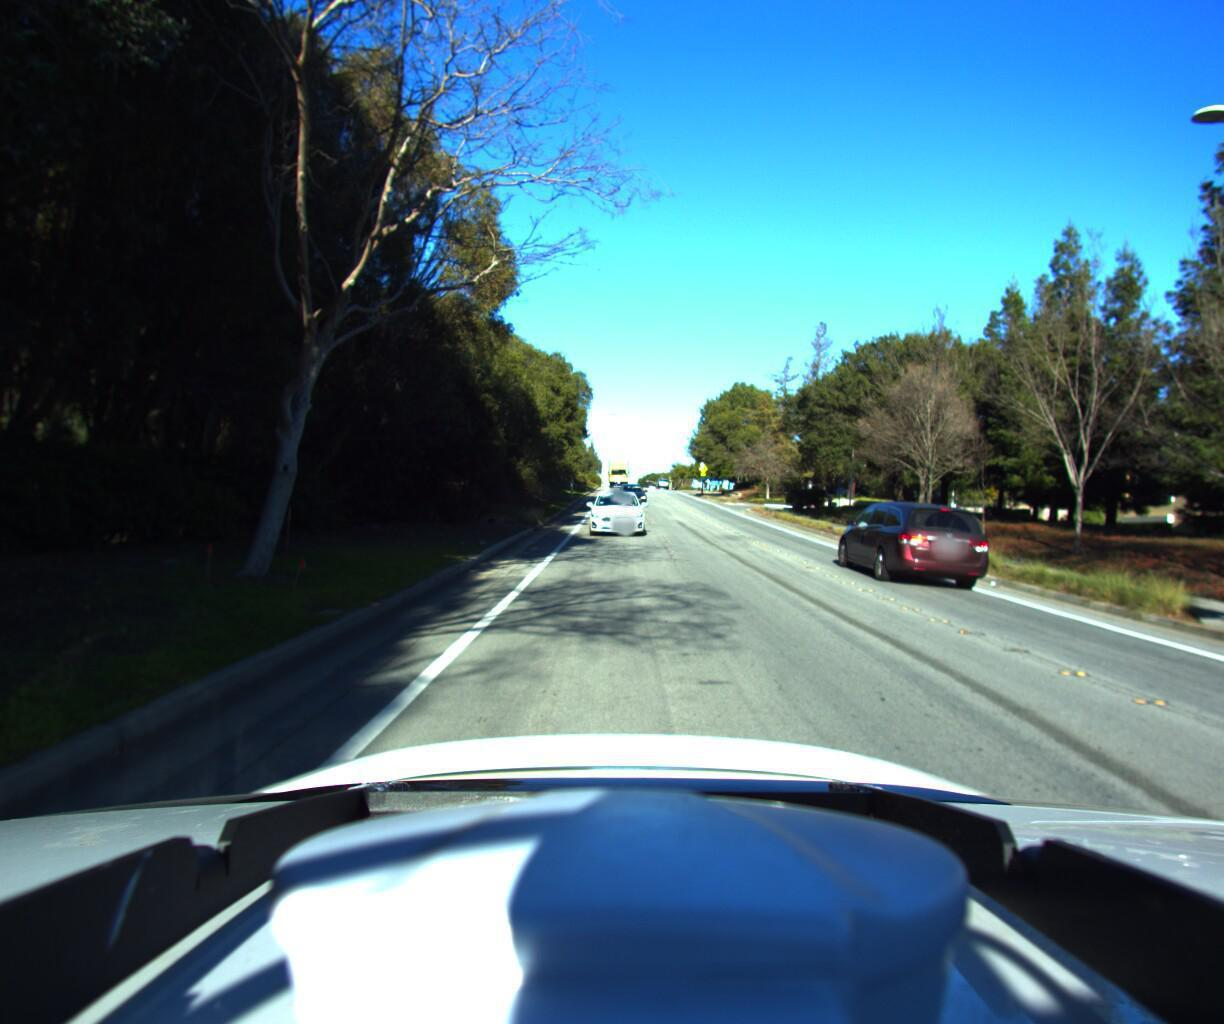car: (818, 492, 980, 583), (582, 480, 649, 539), (620, 481, 652, 509)
